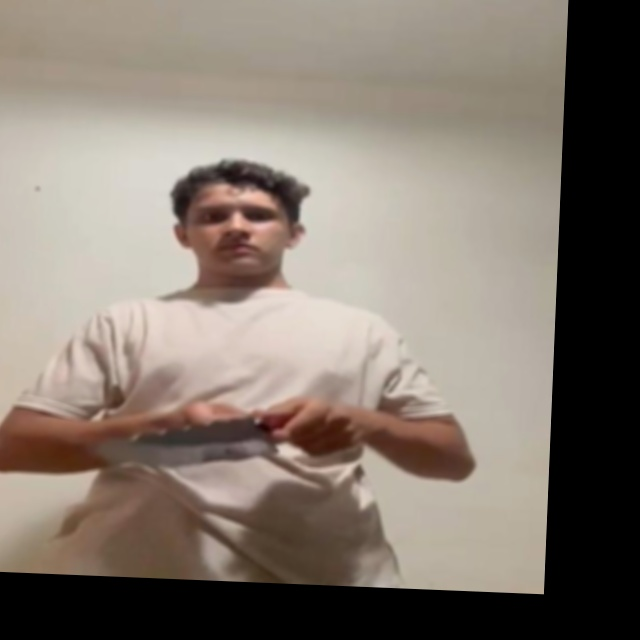Sharp-Object: (78, 411, 272, 480)
